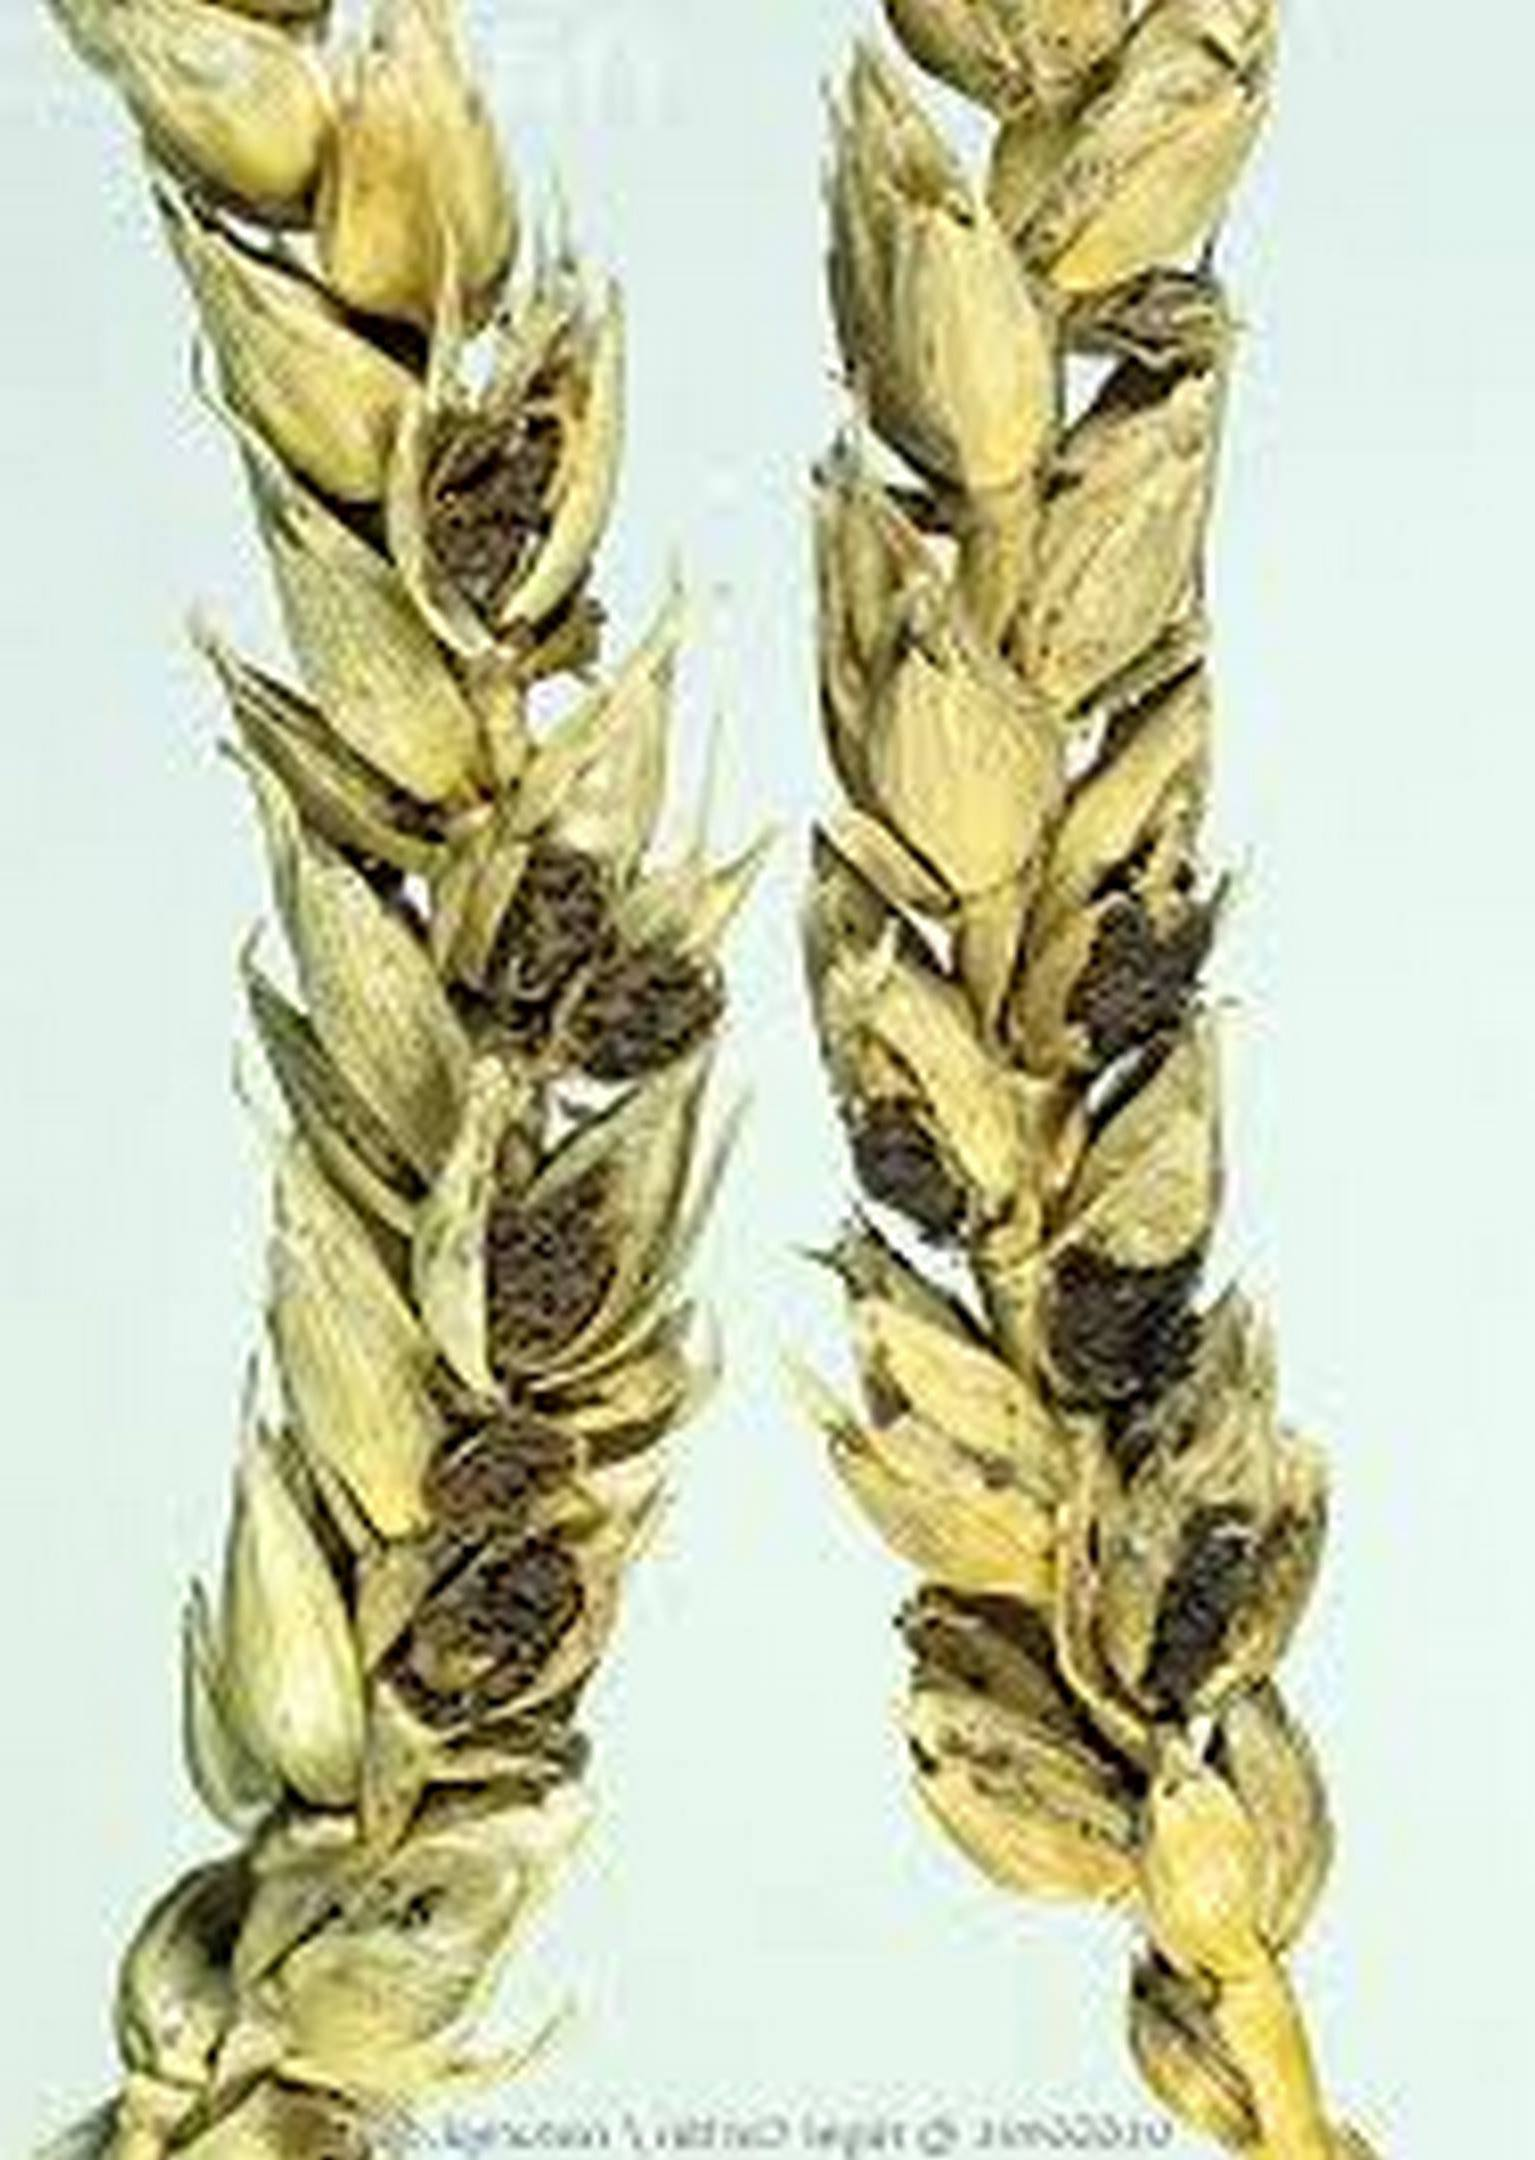Wheat Loose Smut: (105, 66, 1352, 2118)
